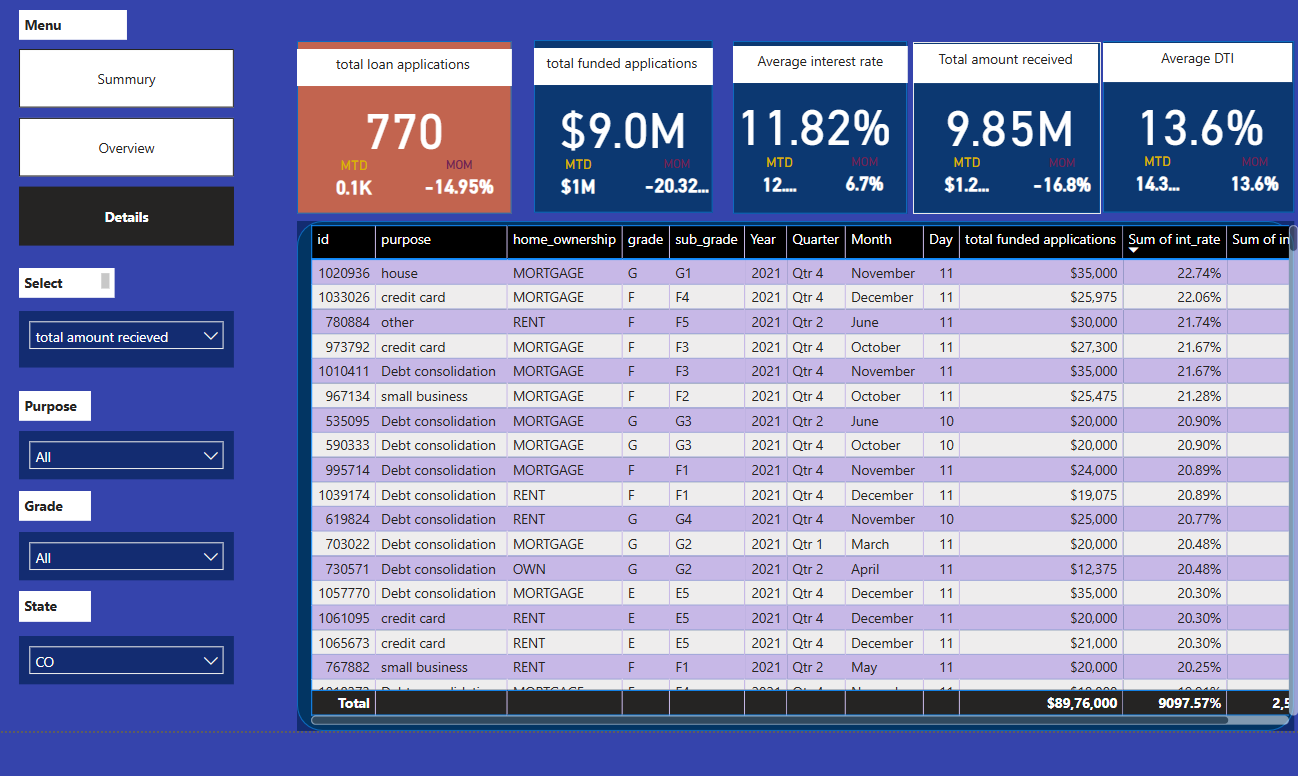

This screenshot's page, from the dashboard's own definition file:
{"tool":"powerbi","page":{"name":"Details","canvas":[1280,720],"ordinal":2},"visuals":[{"type":"shape","box":[531.6,47.7,174.1,168.3],"z":0,"group":"g3"},{"type":"shape","box":[300.5,48.6,209.1,168.3],"z":0,"group":"g4"},{"type":"group","id":"g1","title":"Group 1","box":[713.9,48.6,179.9,168.3],"z":0},{"type":"shape","box":[724.1,48.6,169.6,168.3],"z":0,"group":"g1"},{"type":"shape","box":[1084.5,48.6,186.4,167.3],"z":0,"group":"g5"},{"type":"shape","box":[899.7,49.6,182.7,167.3],"z":0,"group":"g2"},{"type":"shape","box":[300.5,223.7,969.7,496],"z":0,"group":"g6"},{"type":"group","id":"g2","title":"Group 2","box":[899.7,49.6,182.9,167.3],"z":1000},{"type":"textbox","box":[1084.5,50.6,183.7,37.9],"z":1000,"group":"g5"},{"type":"textbox","box":[899.7,51.6,180,37.9],"z":1000,"group":"g2"},{"type":"textbox","box":[724.6,53,169.6,36],"z":1000,"group":"g1"},{"type":"textbox","box":[531.6,55.5,174.1,36],"z":1000,"group":"g3"},{"type":"textbox","box":[300.5,56.4,209.1,36],"z":1000,"group":"g4"},{"type":"group","id":"g3","title":"Group 3","box":[509.7,47.7,216.9,168.3],"z":2000},{"type":"card","fields":{"Values":["3 bank_loan_data (1).AVG DTI"]},"box":[1084.6,95.2,188.7,63.2],"z":2000,"group":"g5"},{"type":"card","fields":{"Values":["3 bank_loan_data (1).Avg interest rate"]},"box":[713.9,95.6,179,63.2],"z":2000,"group":"g1"},{"type":"card","fields":{"Values":["3 bank_loan_data (1).total amount recieved"]},"box":[904.8,96.2,178,63.2],"z":2000,"group":"g2"},{"type":"card","fields":{"Values":["3 bank_loan_data (1).total funded applications"]},"box":[509.7,98.3,216.9,63.2],"z":2000,"group":"g3"},{"type":"card","fields":{"Values":["3 bank_loan_data (1).TOTAL LOAN APPLICATIONS"]},"box":[300.5,99.2,209.1,63.2],"z":2000,"group":"g4"},{"type":"group","id":"g4","title":"Group 4","box":[300.5,48.6,209.1,168.3],"z":3000},{"type":"card","title":"MTD","fields":{"Values":["3 bank_loan_data (1).MTD AVG DTI"]},"box":[1110.1,158.6,55.1,43.8],"z":3000,"group":"g5"},{"type":"card","title":"MTD","fields":{"Values":["3 bank_loan_data (1).mtd avg"]},"box":[745.9,159.1,47.3,43.8],"z":3000,"group":"g1"},{"type":"card","title":"MTD","fields":{"Values":["3 bank_loan_data (1).MTD amount recived"]},"box":[924.8,159.6,54,43.8],"z":3000,"group":"g2"},{"type":"card","title":"MTD","fields":{"Values":["3 bank_loan_data (1).mtd funded"]},"box":[546.4,161.8,54.7,43.8],"z":3000,"group":"g3"},{"type":"card","title":"MTD","fields":{"Values":["3 bank_loan_data (1).MTD"]},"box":[326.8,162.4,58.4,43.8],"z":3000,"group":"g4"},{"type":"group","id":"g5","title":"Group 2","box":[1084.5,48.6,188.7,167.3],"z":4000},{"type":"card","title":"MOM","fields":{"Values":["3 bank_loan_data (1).mom avg"]},"box":[820.8,159.1,63.1,43.8],"z":4000,"group":"g1"},{"type":"card","title":"MOM","fields":{"Values":["3 bank_loan_data (1).MOM AVG DTI"]},"box":[1197.6,159.4,69.1,42.8],"z":4000,"group":"g5"},{"type":"card","title":"MOM","fields":{"Values":["3 bank_loan_data (1).mom amount recieved"]},"box":[1010.5,160.4,67.7,42.8],"z":4000,"group":"g2"},{"type":"card","title":"MOM","fields":{"Values":["3 bank_loan_data (1).Mom funded"]},"box":[633,161.8,72.9,43.8],"z":4000,"group":"g3"},{"type":"card","title":"MOM","fields":{"Values":["3 bank_loan_data (1).MoM LOAN APP"]},"box":[419.2,162.4,77.8,43.8],"z":4000,"group":"g4"},{"type":"slicer","fields":{"Values":["3 bank_loan_data (1).purpose"]},"box":[30.2,428,209.1,46.7],"z":5000},{"type":"textbox","box":[30.2,389.1,70,29.2],"z":6000},{"type":"textbox","box":[30.2,486.3,70,29.2],"z":7000},{"type":"slicer","fields":{"Values":["3 bank_loan_data (1).grade"]},"box":[30.2,526.2,209.1,46.7],"z":8000},{"type":"slicer","fields":{"Values":["3 bank_loan_data (1).address_state"]},"box":[30.2,627.4,209.1,46.7],"z":9000},{"type":"textbox","box":[30.2,583.6,70,30.2],"z":10000},{"type":"textbox","box":[30.2,18.5,105,29.2],"z":11000},{"type":"slicer","fields":{"Values":["Parameter.Parameter"]},"box":[30.2,311.2,209.1,55.4],"z":12000},{"type":"textbox","box":[30.2,269.4,93.4,29.2],"z":13000},{"type":"group","id":"g6","title":"Group 5","box":[300.5,223,978.9,496.7],"z":14000},{"type":"pageNavigator","box":[30.2,56.4,209.1,193.6],"z":15000},{"type":"tableEx","fields":{"Values":["3 bank_loan_data (1).id","3 bank_loan_data (1).purpose","3 bank_loan_data (1).home_ownership","3 bank_loan_data (1).grade","3 bank_loan_data (1).sub_grade","3 bank_loan_data (1).issue_date.Variation.Date Hierarchy.Year","3 bank_loan_data (1).issue_date.Variation.Date Hierarchy.Quarter","3 bank_loan_data (1).issue_date.Variation.Date Hierarchy.Month","3 bank_loan_data (1).issue_date.Variation.Date Hierarchy.Day","3 bank_loan_data (1).total funded applications","Sum(3 bank_loan_data (1).int_rate)","Sum(3 bank_loan_data (1).installment)"]},"box":[308.7,223,970.7,496],"z":17001,"group":"g6"}]}

Visuals, with their boxes on the page's 1280x720 design canvas (x1, y1, x2, y2). These are canvas units, not pixel positions in the 1298x776 screenshot, which may show the page scaled, cropped or inside an application window:
shape: 532 48 706 216
shape: 300 49 510 217
"Group 1" group: 714 49 894 217
shape: 724 49 894 217
shape: 1084 49 1271 216
shape: 900 50 1082 217
shape: 300 224 1270 720
"Group 2" group: 900 50 1083 217
textbox: 1084 51 1268 88
textbox: 900 52 1080 90
textbox: 725 53 894 89
textbox: 532 56 706 92
textbox: 300 56 510 92
"Group 3" group: 510 48 727 216
card - 3 bank_loan_data (1).AVG DTI: 1085 95 1273 158
card - 3 bank_loan_data (1).Avg interest rate: 714 96 893 159
card - 3 bank_loan_data (1).total amount recieved: 905 96 1083 159
card - 3 bank_loan_data (1).total funded applications: 510 98 727 162
card - 3 bank_loan_data (1).TOTAL LOAN APPLICATIONS: 300 99 510 162
"Group 4" group: 300 49 510 217
"MTD" card: 1110 159 1165 202
"MTD" card: 746 159 793 203
"MTD" card: 925 160 979 203
"MTD" card: 546 162 601 206
"MTD" card: 327 162 385 206
"Group 2" group: 1084 49 1273 216
"MOM" card: 821 159 884 203
"MOM" card: 1198 159 1267 202
"MOM" card: 1010 160 1078 203
"MOM" card: 633 162 706 206
"MOM" card: 419 162 497 206
slicer - 3 bank_loan_data (1).purpose: 30 428 239 475
textbox: 30 389 100 418
textbox: 30 486 100 516
slicer - 3 bank_loan_data (1).grade: 30 526 239 573
slicer - 3 bank_loan_data (1).address_state: 30 627 239 674
textbox: 30 584 100 614
textbox: 30 18 135 48
slicer - Parameter.Parameter: 30 311 239 367
textbox: 30 269 124 299
"Group 5" group: 300 223 1279 720
pageNavigator: 30 56 239 250
tableEx - 3 bank_loan_data (1).id x 3 bank_loan_data (1).purpose: 309 223 1279 719
